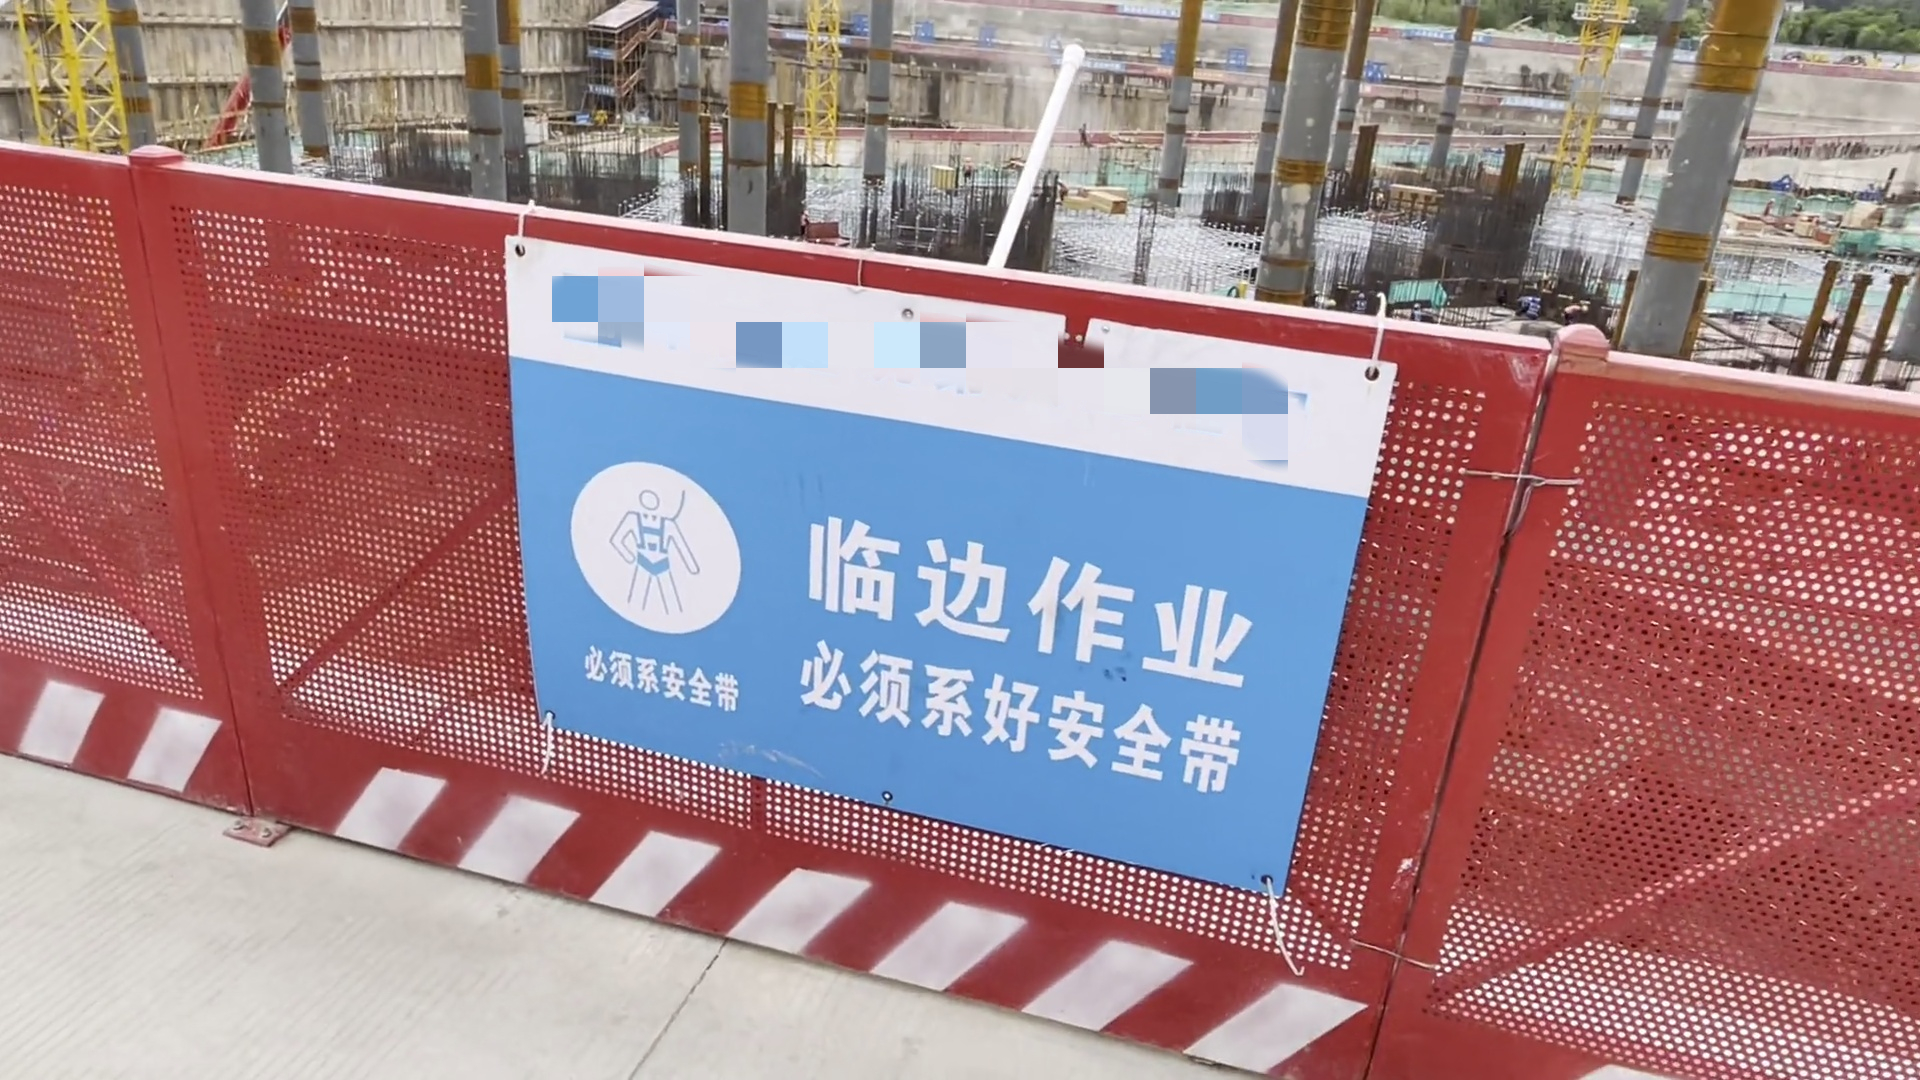fence: (1, 240, 1886, 1080)
helmet: (1583, 305, 1592, 315), (1358, 293, 1366, 301), (1413, 302, 1422, 308)
person: (1516, 291, 1545, 323), (1563, 299, 1588, 330), (1408, 301, 1431, 330), (1353, 288, 1371, 318)
slogan: (503, 243, 1297, 829)
vest: (1529, 303, 1542, 318), (1566, 304, 1579, 315), (1415, 310, 1424, 322), (1358, 301, 1366, 313)
wood: (1079, 187, 1133, 224)
